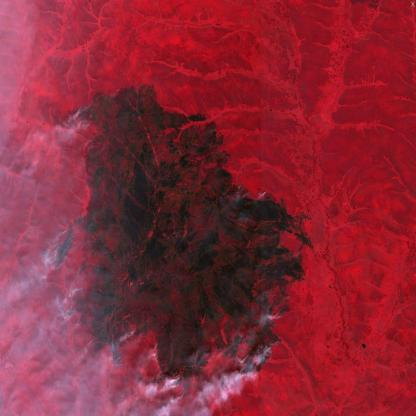fire: (44, 216, 294, 406), (68, 93, 107, 142), (233, 174, 253, 205)
